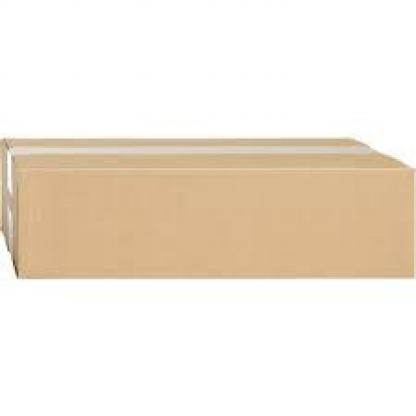CARDBOARD: (0, 135, 414, 279)
